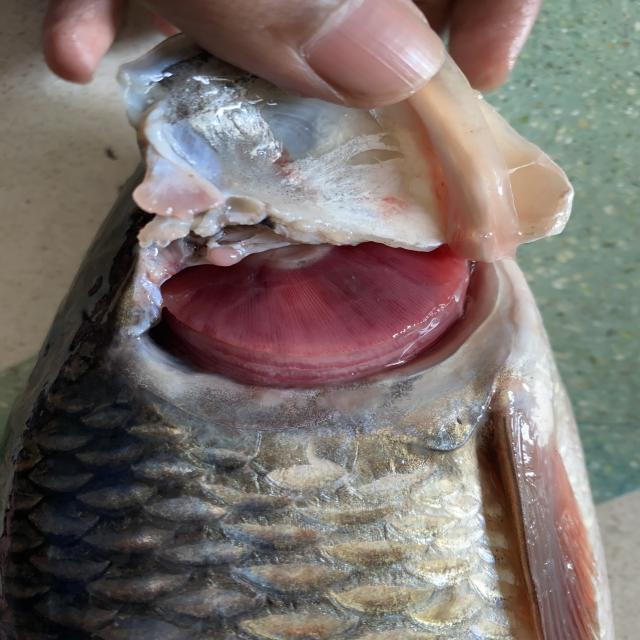Fresh: (125, 208, 500, 395)
